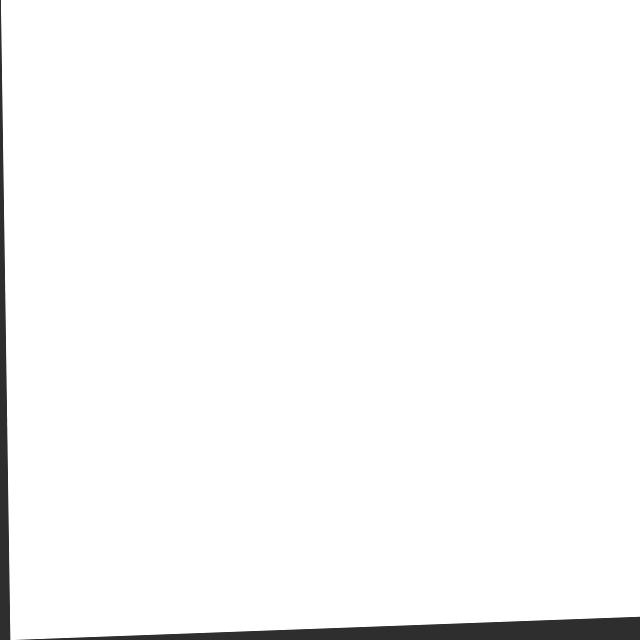qr_code: (37, 9, 640, 639)
